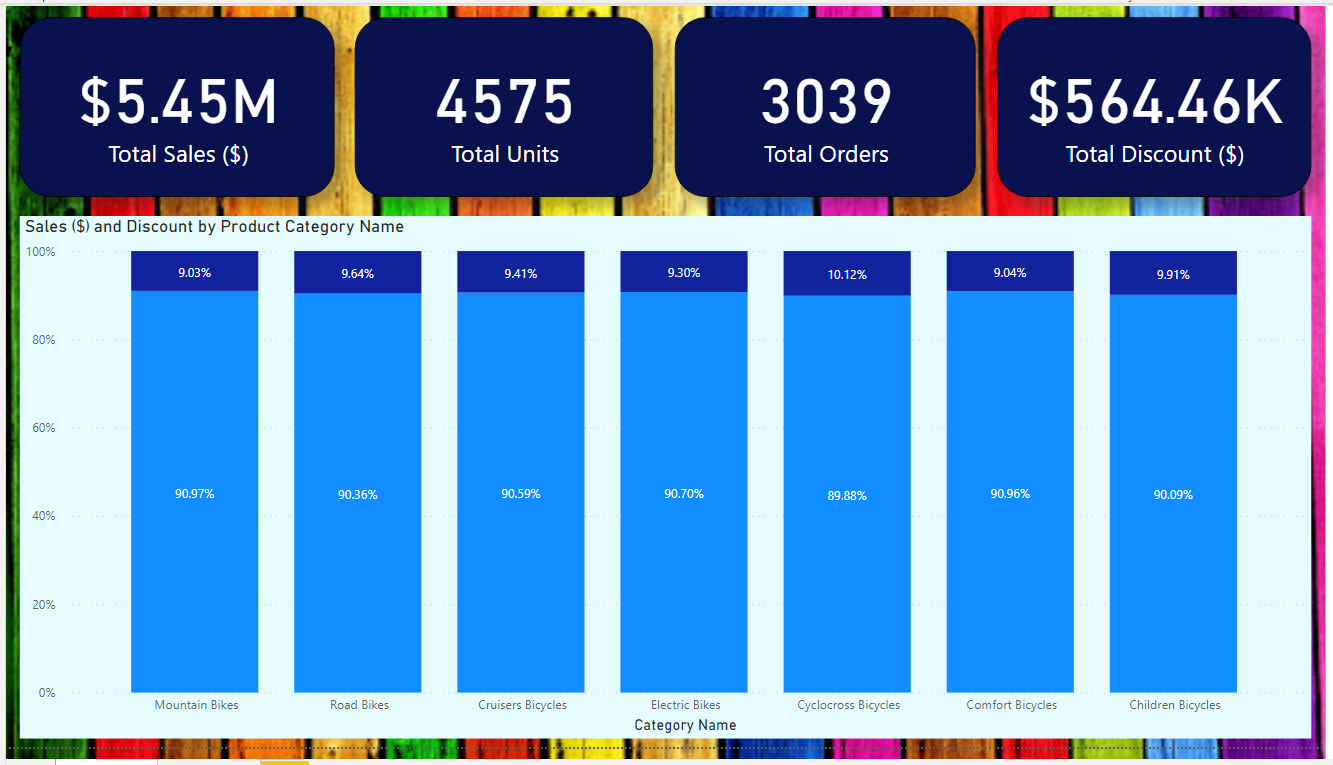

The page's visual inventory and layout, read from the dashboard file:
{"tool":"powerbi","page":{"name":"Visual 1","canvas":[1280,720],"ordinal":1},"visuals":[{"type":"hundredPercentStackedColumnChart","title":"Sales ($) and Discount by Product Category Name","fields":{"Category":["Categories.Category Name"],"Y":["Order Items.Total Sales ($)","Order Items.Total Discount ($)"]},"box":[13.3,203.8,1253.3,507.1],"z":0},{"type":"card","fields":{"Values":["Order Items.Total Sales ($)"]},"box":[13.3,10.9,305.7,174.7],"z":1000},{"type":"card","fields":{"Values":["Order Items.Total Units"]},"box":[338.5,10.9,290,174.7],"z":2000},{"type":"card","fields":{"Values":["Order Items.Total Discount ($)"]},"box":[962.1,10.9,304.5,174.7],"z":3000},{"type":"card","fields":{"Values":["Order Items.Product Count"]},"box":[649.1,10.9,292.4,174.7],"z":4000}]}

Visuals, with their boxes in screenshot pixels (x1, y1, x2, y2), scaled from the page's 1280x720 canvas onto the 1333x765 screenshot:
"Sales ($) and Discount by Product Category Name" hundredPercentStackedColumnChart: 14:217:1319:755
card - Order Items.Total Sales ($): 14:12:332:197
card - Order Items.Total Units: 353:12:655:197
card - Order Items.Total Discount ($): 1002:12:1319:197
card - Order Items.Product Count: 676:12:980:197
